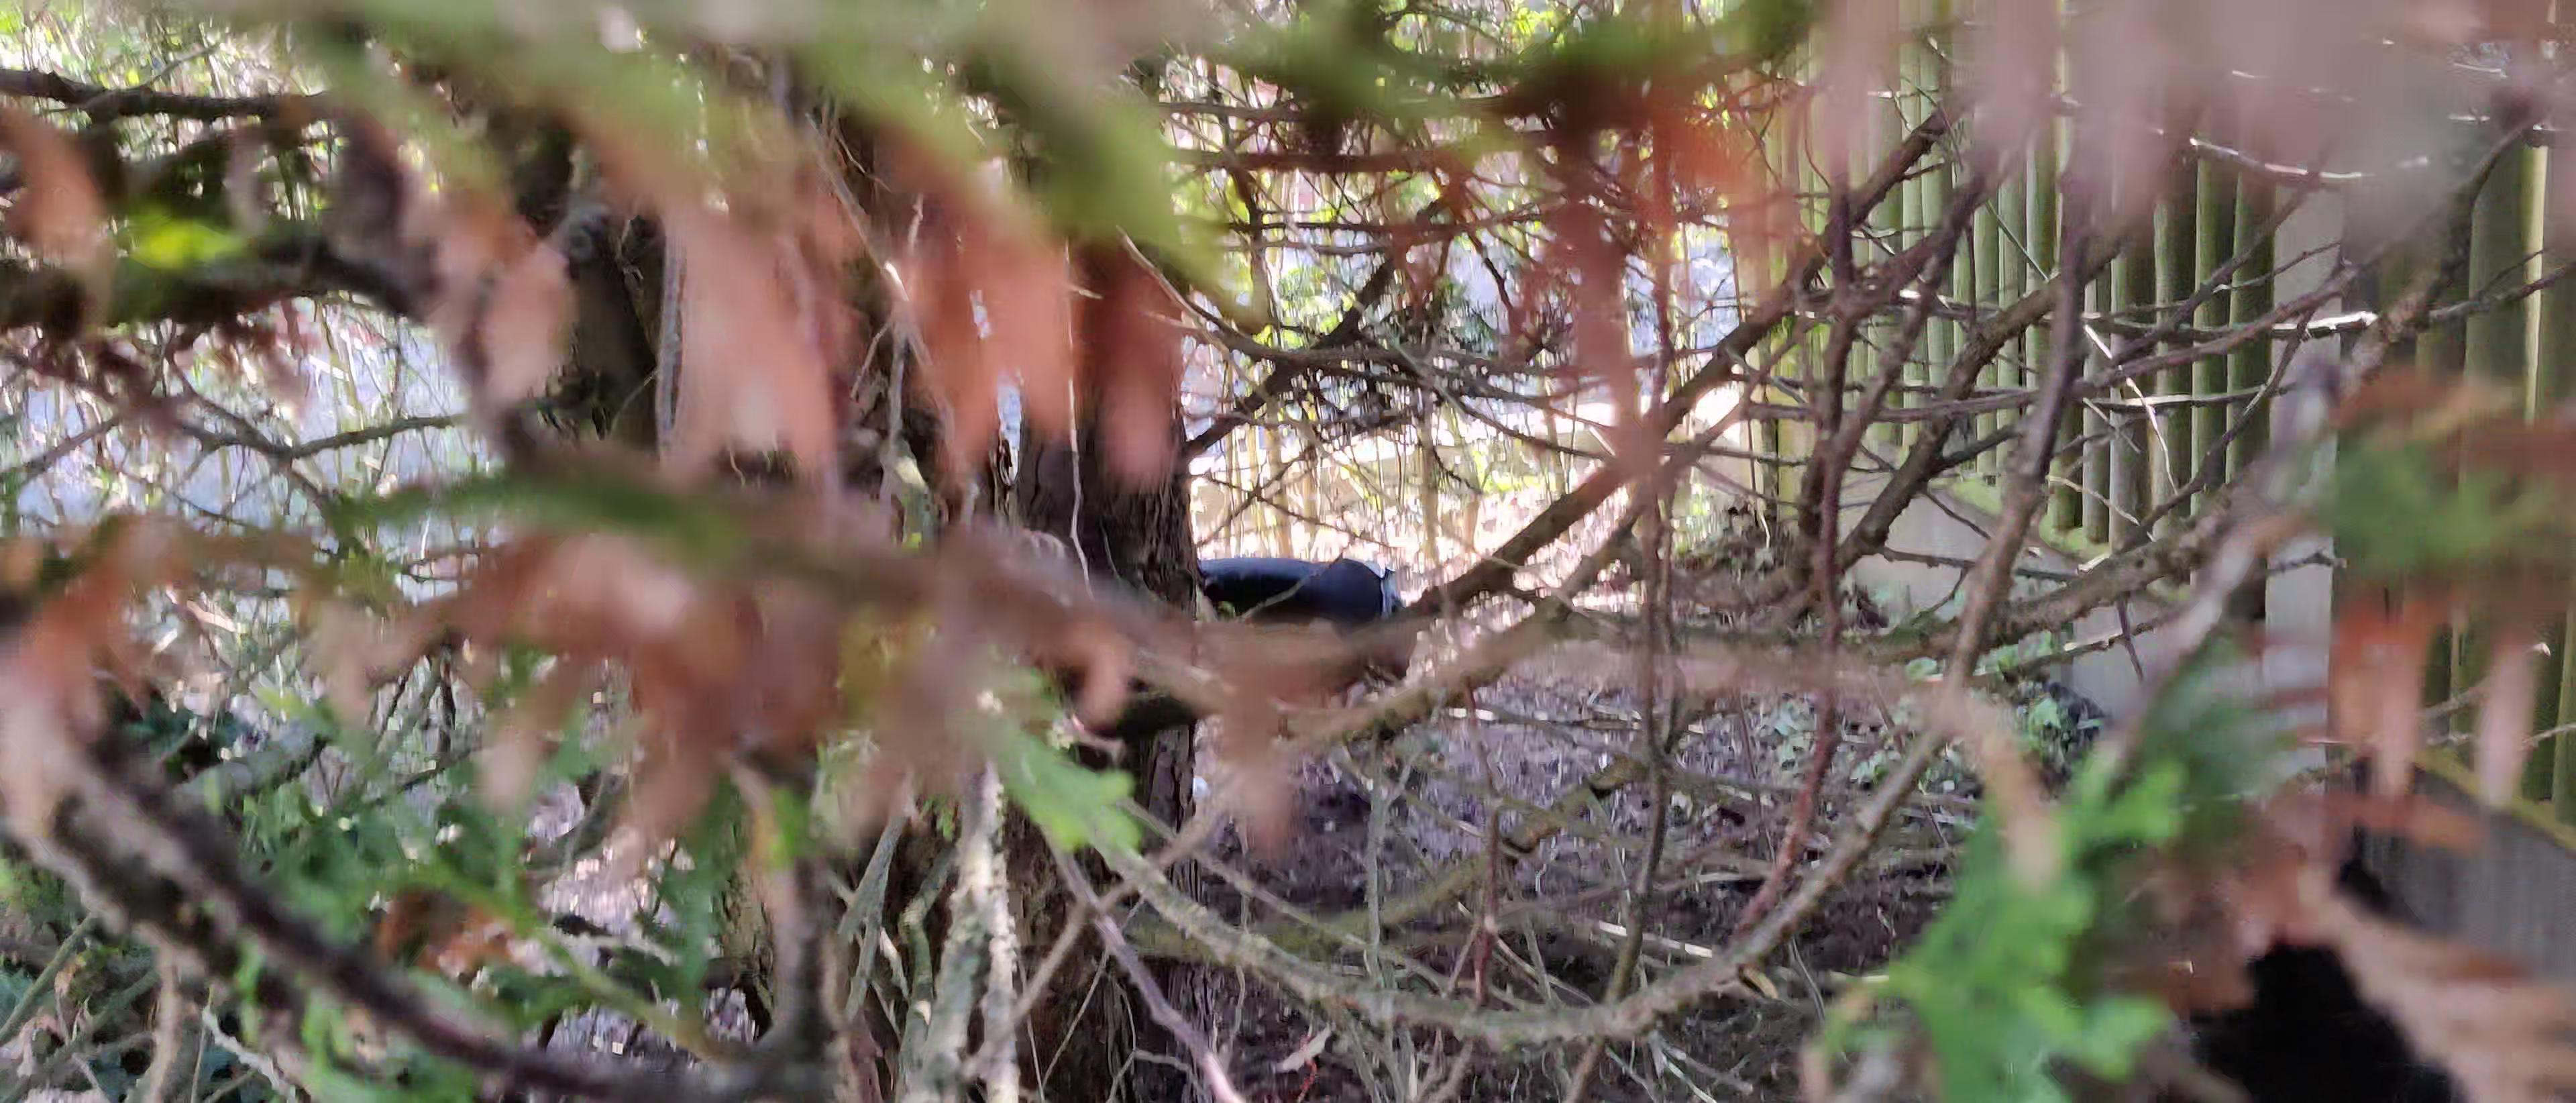Dog: (1155, 536, 1423, 810)
